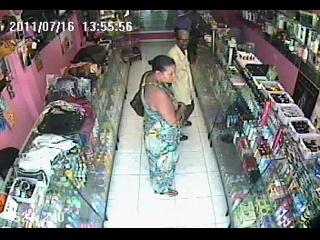Normal: (140, 55, 189, 198), (167, 28, 196, 132)
